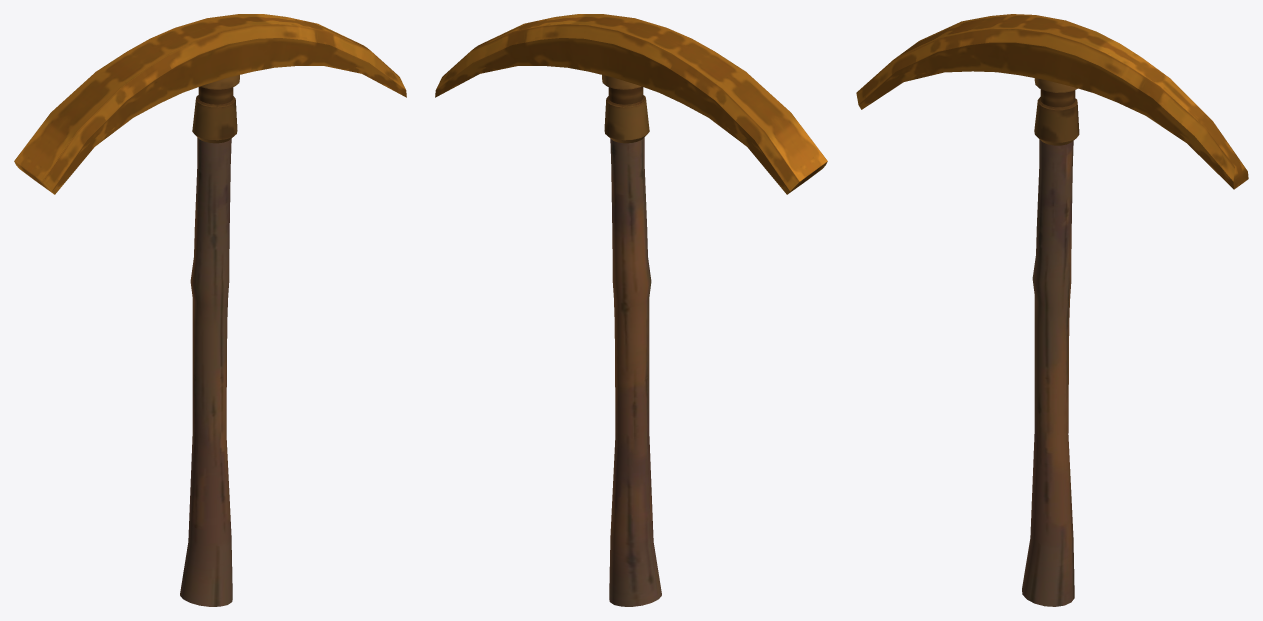
Rendered from Pickaxe_Bronze.glb.
The picture shows the model from 3 angles, left to right: view 1: azimuth 30°, elevation 25°; view 2: azimuth 150°, elevation 25°; view 3: azimuth 330°, elevation 25°; orthographic projection.
Visible parts, largest first — view 1: Pickaxe_Bronze; view 2: Pickaxe_Bronze; view 3: Pickaxe_Bronze.
Part boxes in pixels (x1,y1,x2,y2): Pickaxe_Bronze: (14,14,406,606); Pickaxe_Bronze: (435,14,827,606); Pickaxe_Bronze: (856,14,1248,606).
Bounding box in the file's own units: 0.8128 × 1.2 × 0.1357.
1 material, 1 textured.
